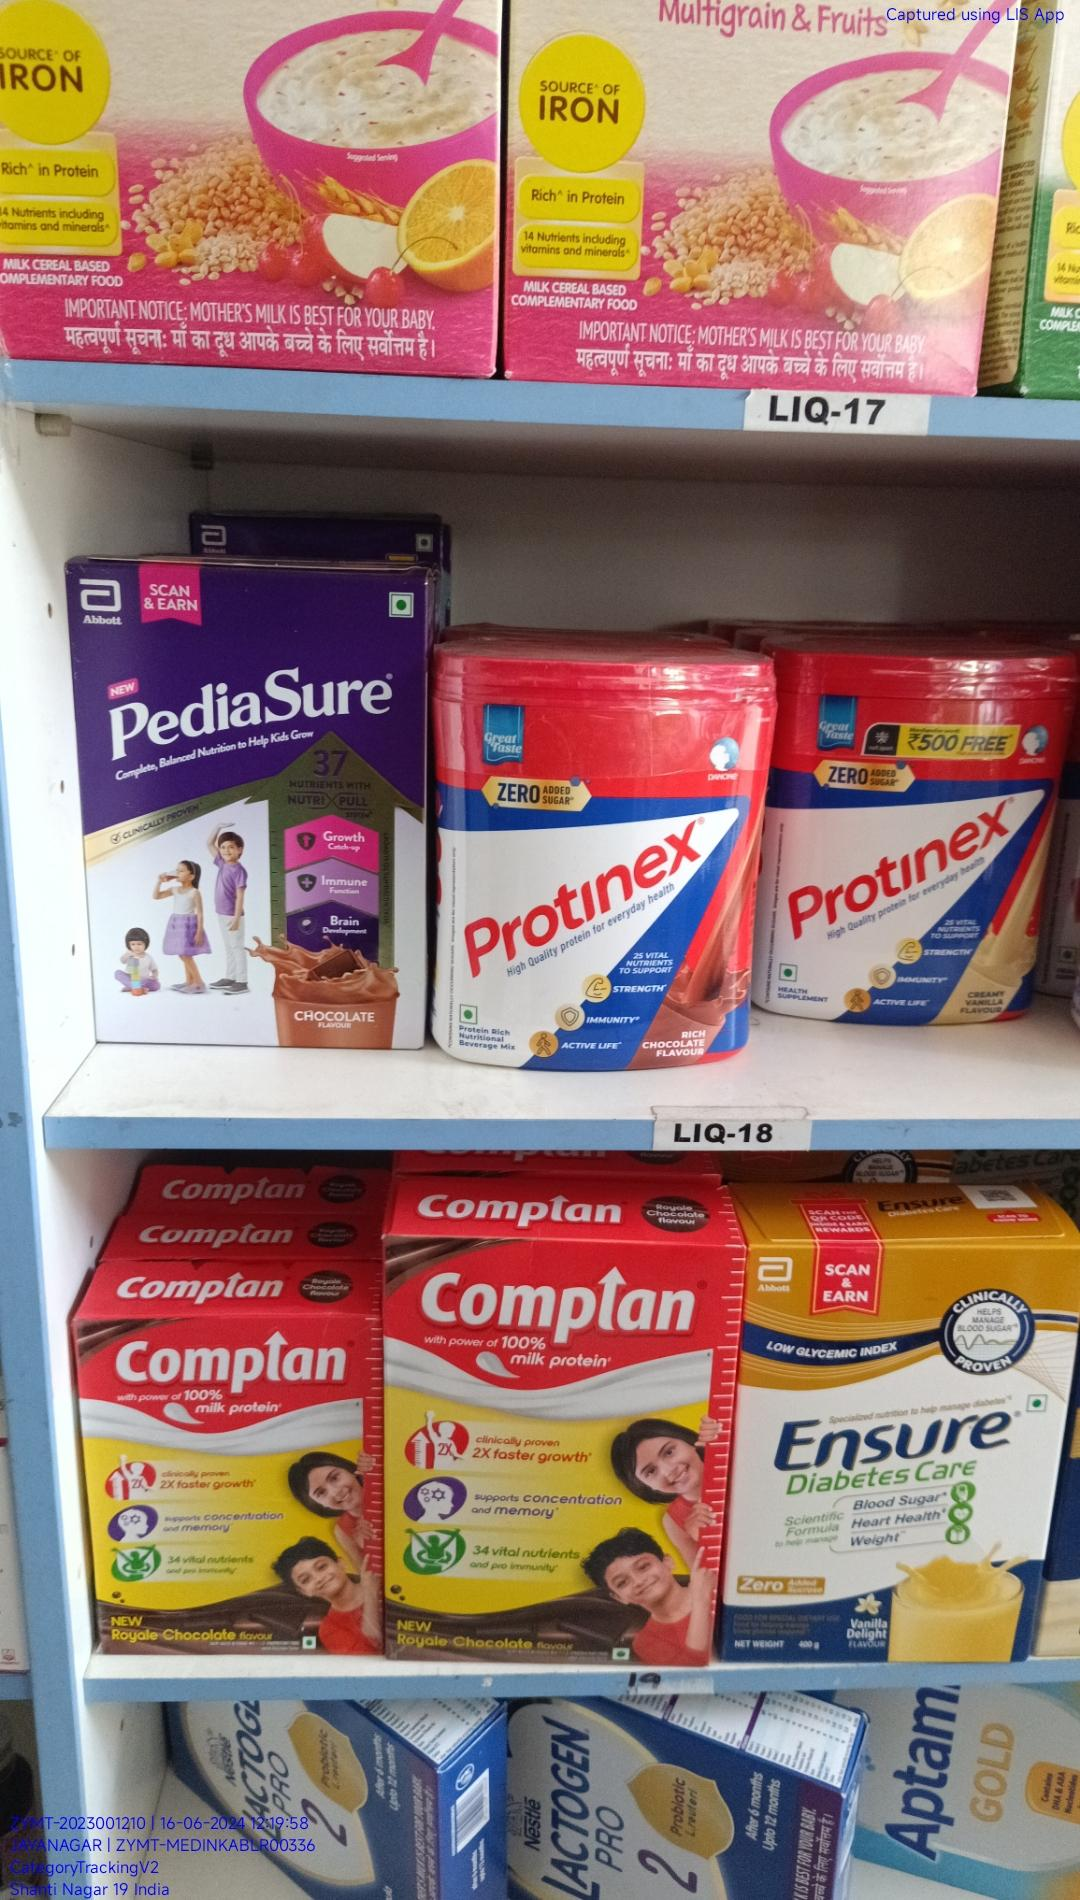COMPLAN_CHOCOLATE_200_GMS_PACK: (69, 1311, 385, 1656)
PEDIASURE_CHOCOLATE_500_G_PACK: (55, 549, 424, 1048)
PROTINEX_CHOCOLATE_400_G_JAR: (446, 651, 734, 1054)
PROTINEX_VANILLA_400_G_JAR: (768, 647, 1049, 1026)
